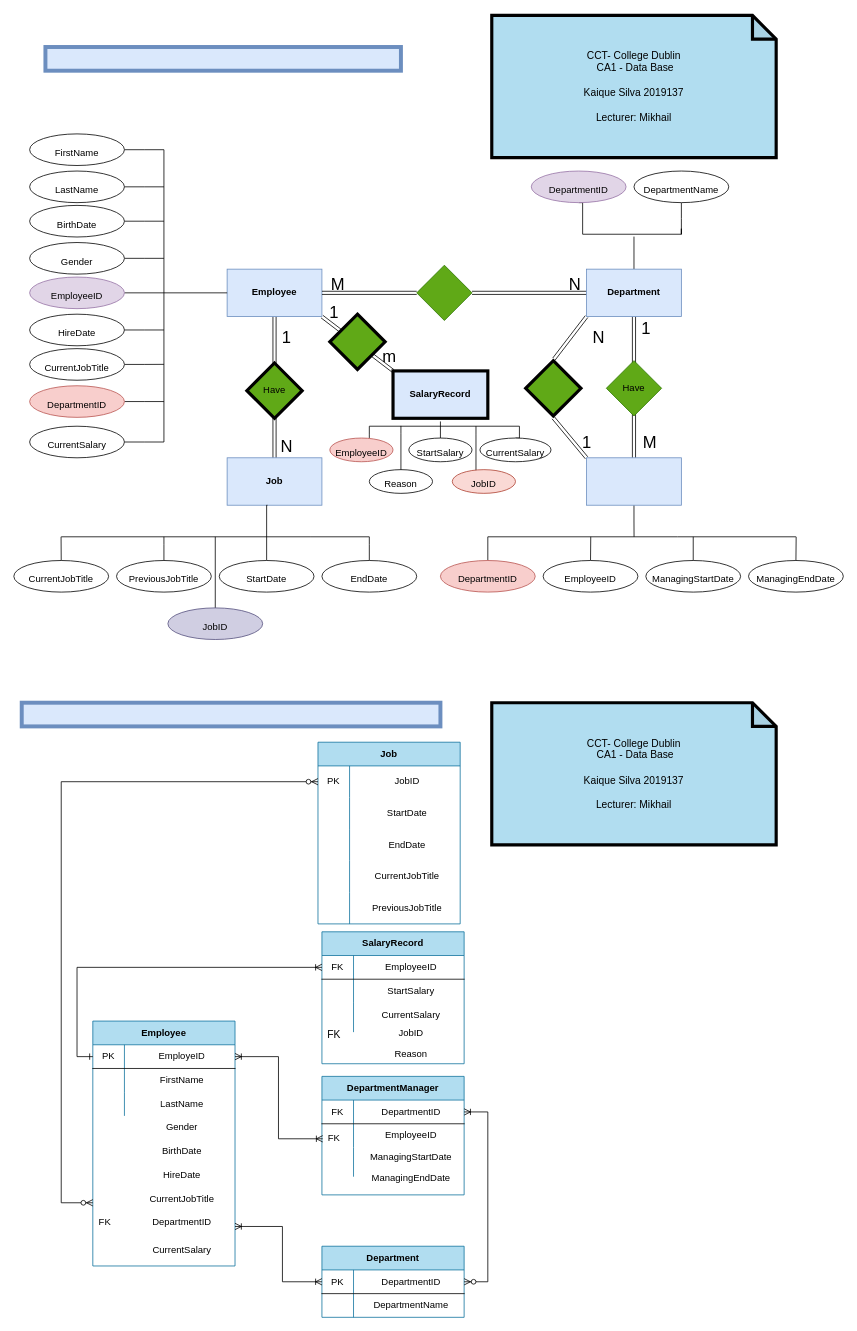
The diagram is 857 pixels wide and 1331 high, and some of its shapes have lost their labels. Each missing label, with the centre of its shape:
"Belong" belongs at (x=444, y=292).
"Department Manager" belongs at (x=633, y=481).
"Entity Relationship Diagram - Chen Noation" belongs at (x=223, y=58).
"Entity Relationship Diagram - Crow's Foot Notation" belongs at (x=230, y=714).
"Has" belongs at (x=357, y=341).
"Manage" belongs at (x=553, y=388).
